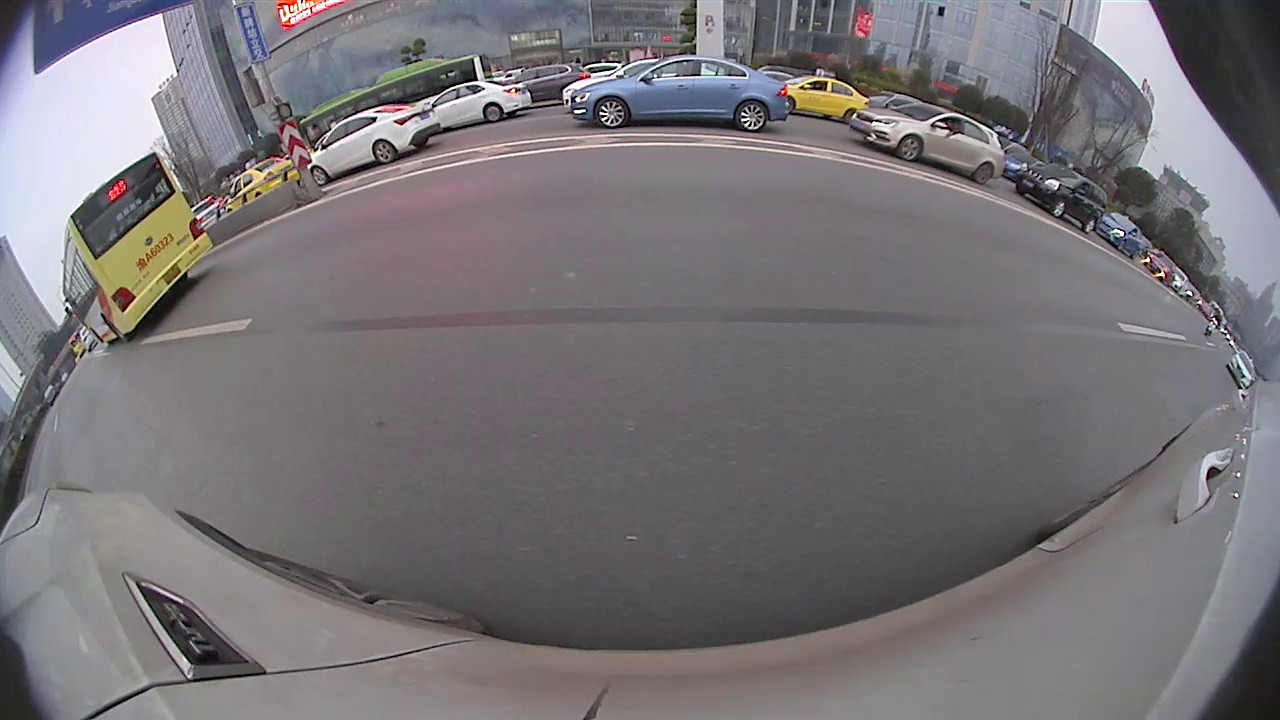bus: (59, 148, 213, 348)
car: (571, 54, 792, 133), (848, 103, 1008, 188), (306, 102, 441, 186), (1014, 163, 1108, 233), (419, 79, 533, 133), (562, 57, 671, 112), (775, 68, 874, 124), (222, 155, 303, 218), (506, 63, 591, 104)
front: (592, 95, 630, 129), (893, 134, 923, 164), (309, 164, 331, 191), (1046, 198, 1065, 220)
rear: (733, 95, 768, 132), (100, 312, 132, 347), (369, 139, 398, 169), (970, 163, 996, 187), (483, 102, 503, 125), (1074, 216, 1094, 235)
